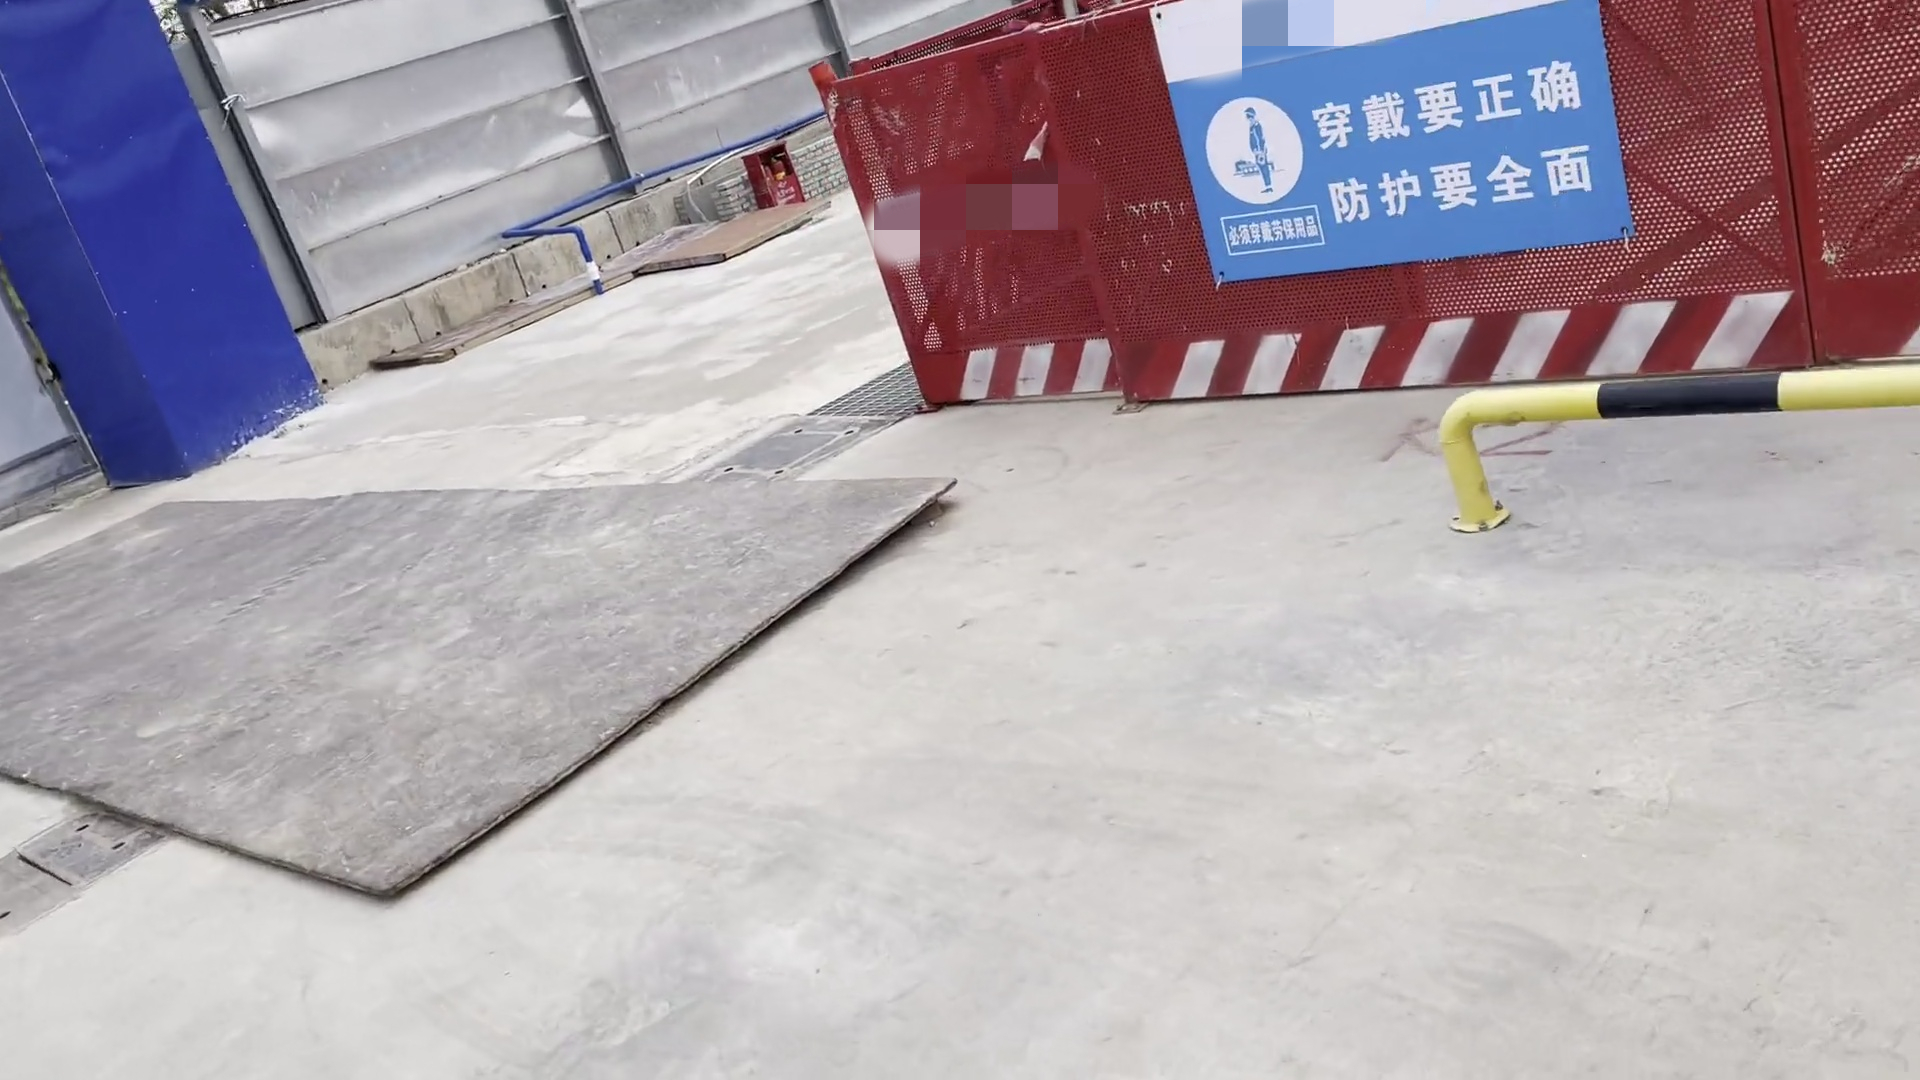brick: (669, 173, 760, 231), (781, 131, 848, 208)
fence: (810, 3, 1920, 431)
slogan: (1141, 1, 1648, 291)
